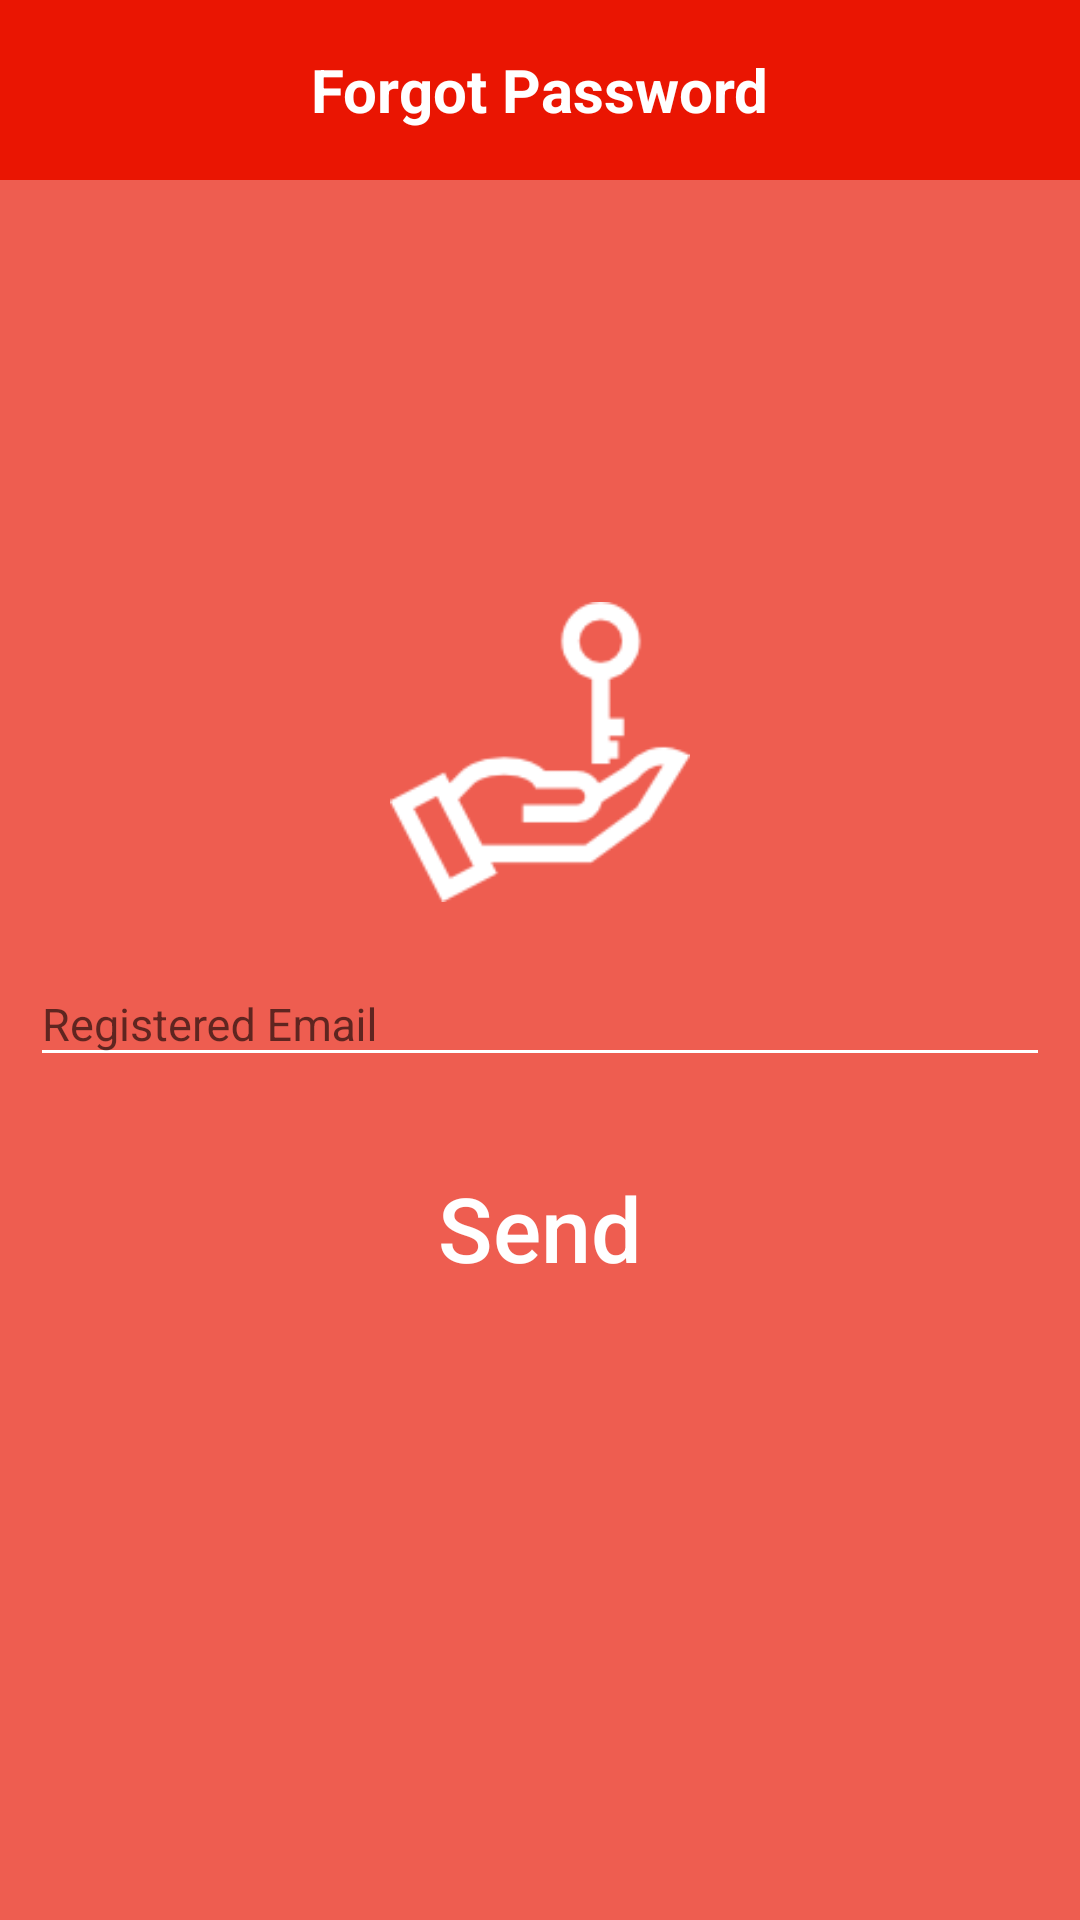

Screen size 1080×1920. Icon name, then its box in pixels as detection(x1, y1, x2, y2):
forgot password: detection(390, 602, 690, 902)
